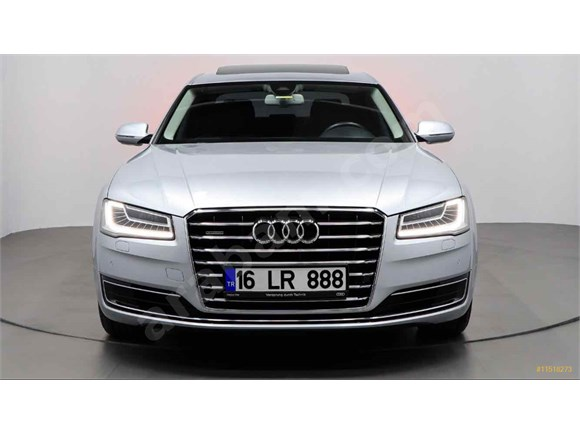audi: (245, 218, 324, 249)
